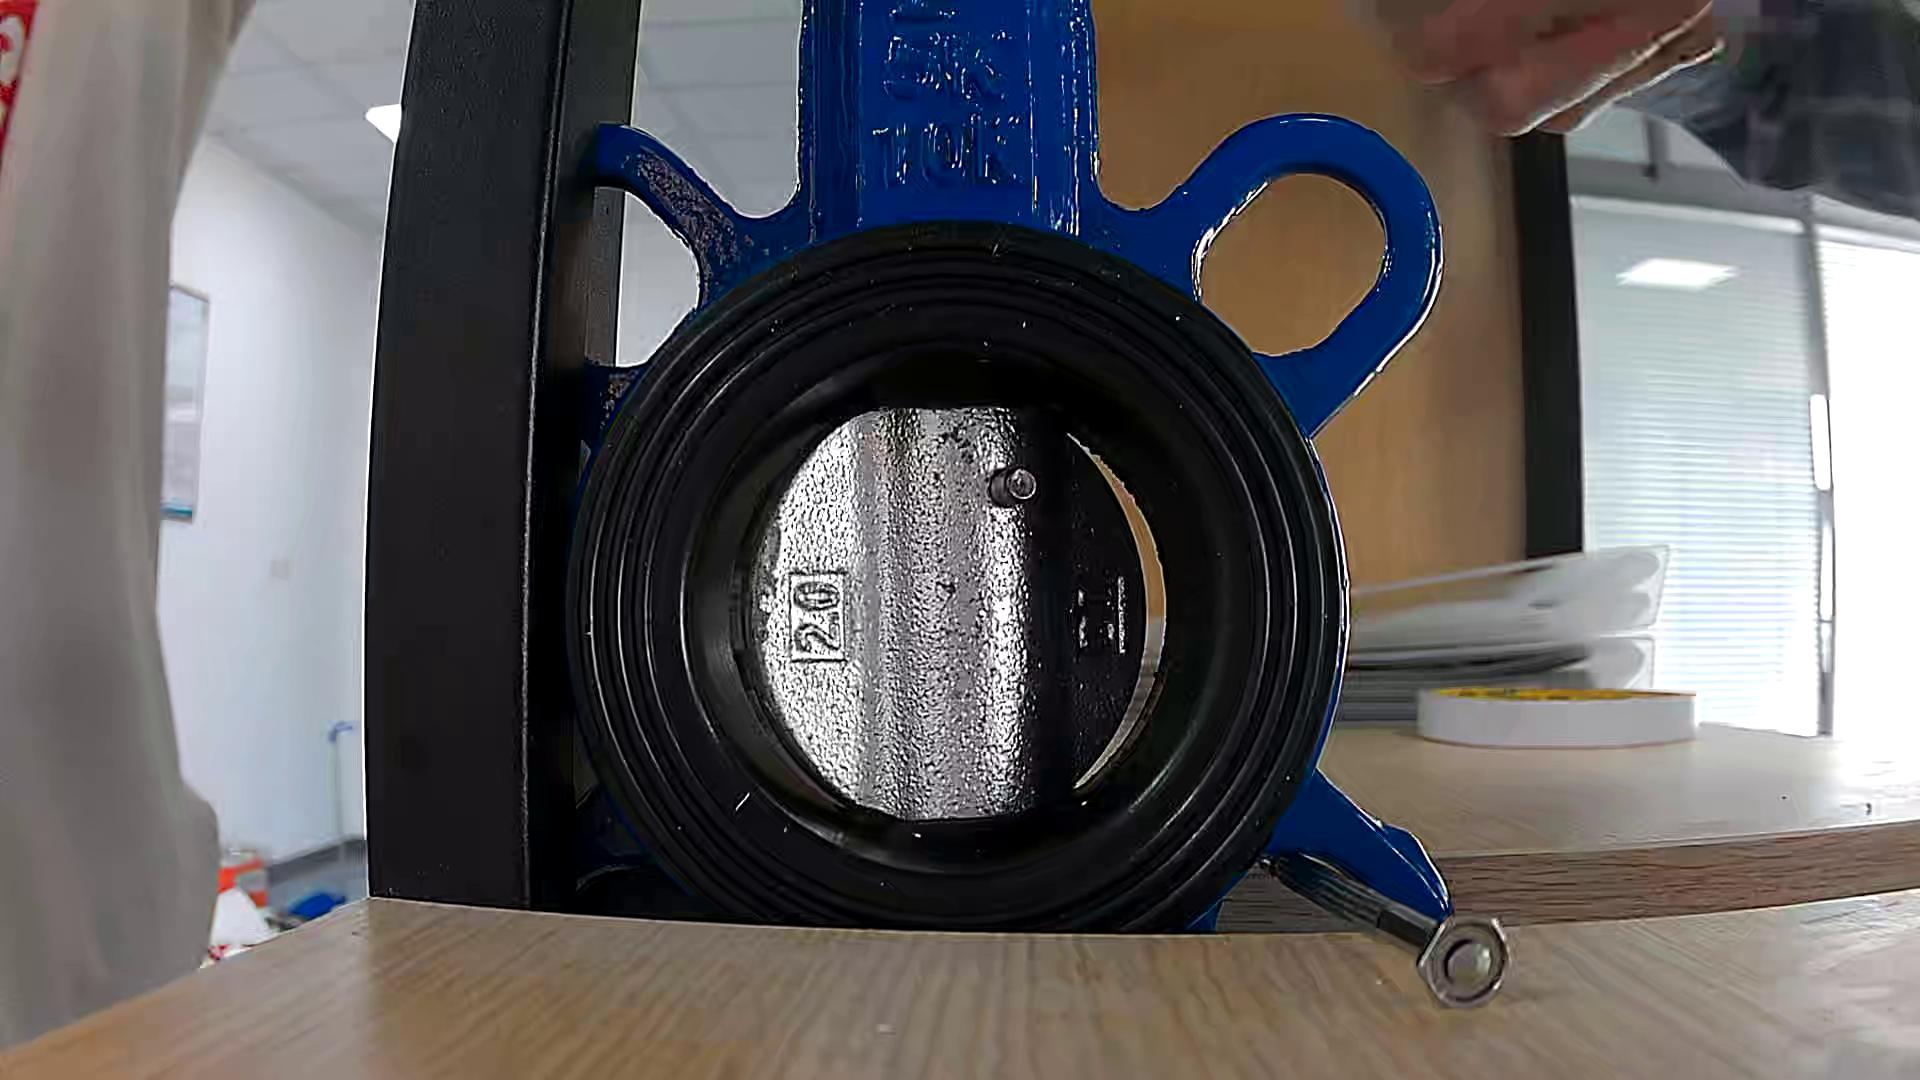valve: (750, 405, 1146, 821)
